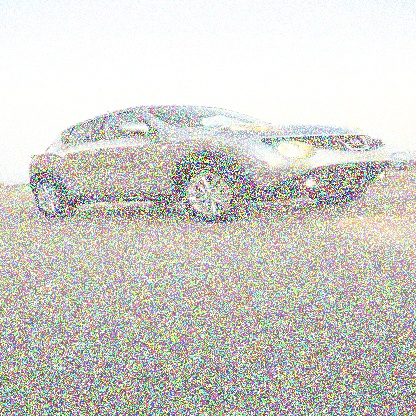Vehicle: (30, 104, 394, 225)
